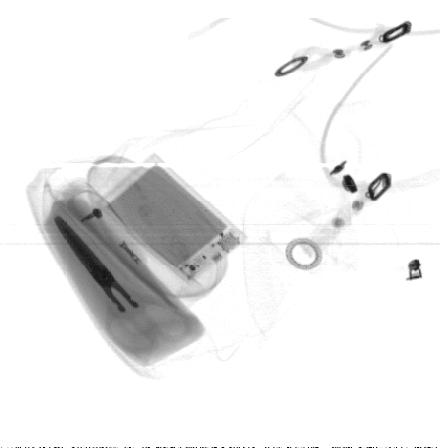Powerbank: (90, 152, 252, 283)
Scissors: (49, 216, 200, 357)
